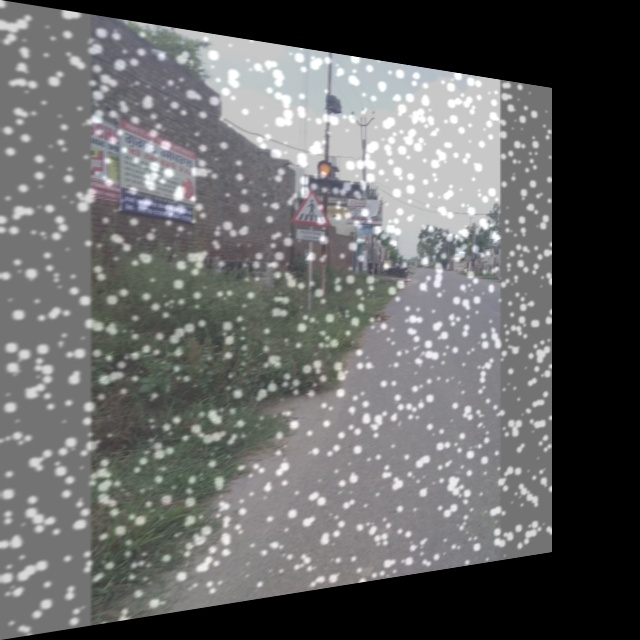Pedestrian_Crossing: (286, 187, 337, 235)
